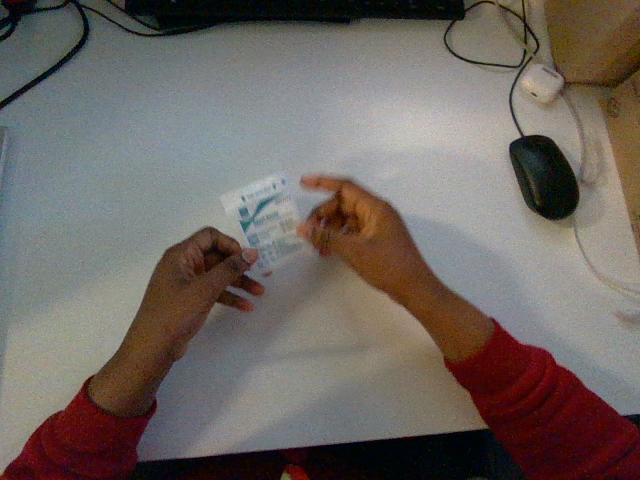gauze: (220, 175, 304, 272)
